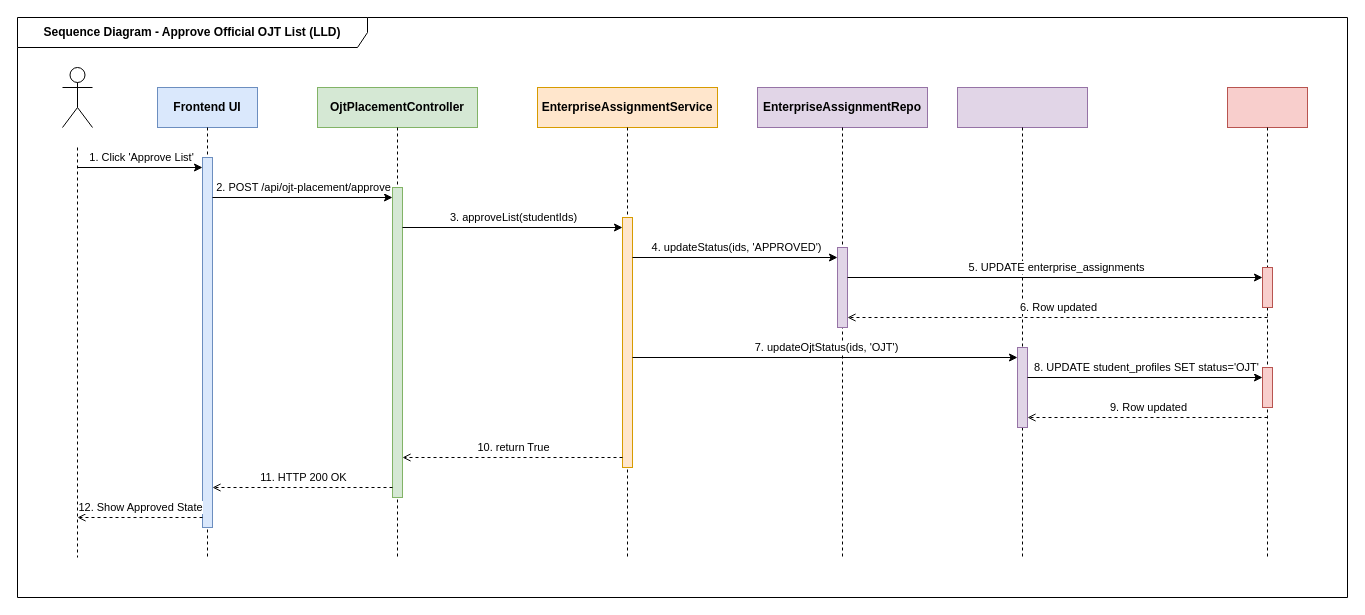
The diagram is 1365 pixels wide and 615 high, and some of its shapes have lost their labels. Each missing label, with the centre of its shape:
Database: pixel 1267 107
StudentProfileRepo: pixel 1022 107
Training Manager: pixel 77 97
